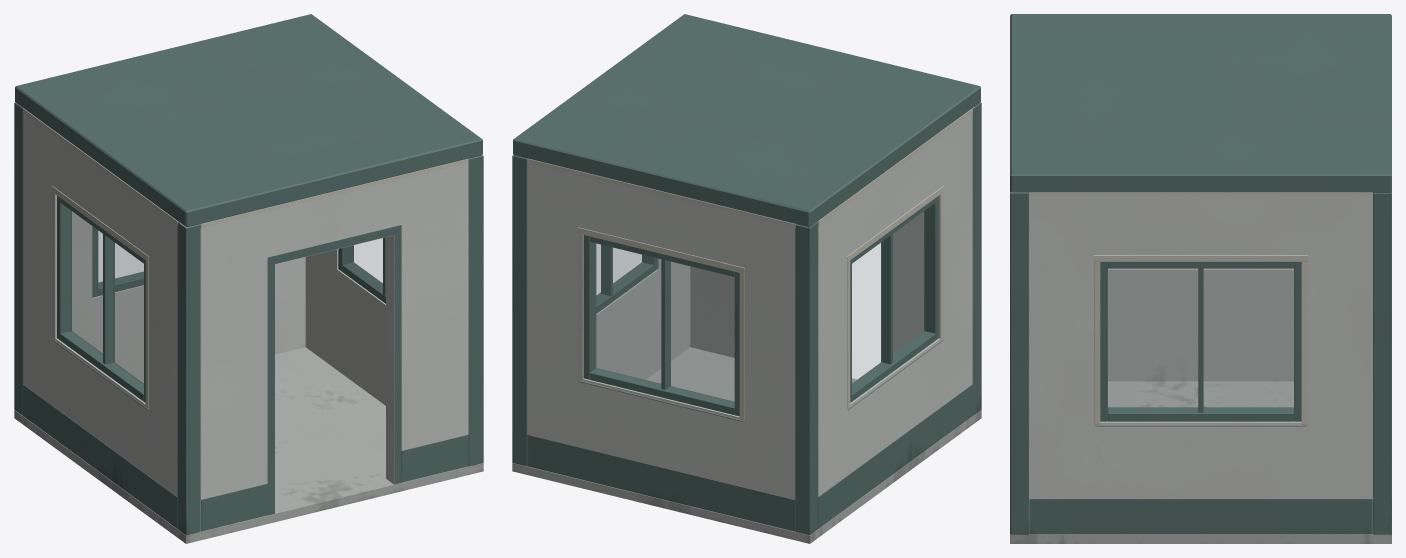
File: guard_booth_3m.glb
The picture shows the model from 3 angles, left to right: view 1: azimuth 30°, elevation 25°; view 2: azimuth 150°, elevation 25°; view 3: azimuth 270°, elevation 25°; orthographic projection. The views are drawn at different scales.
Parts seen in each view (by area): view 1: GuardBooth; view 2: GuardBooth; view 3: GuardBooth.
Part boxes in pixels (x1,y1,x2,y2): GuardBooth: [14, 14, 483, 543]; GuardBooth: [512, 14, 981, 543]; GuardBooth: [1010, 14, 1391, 543].
Size of what is drawn, in the model's own units: 3 by 3.2 by 3.
2 materials, 1 textured.
